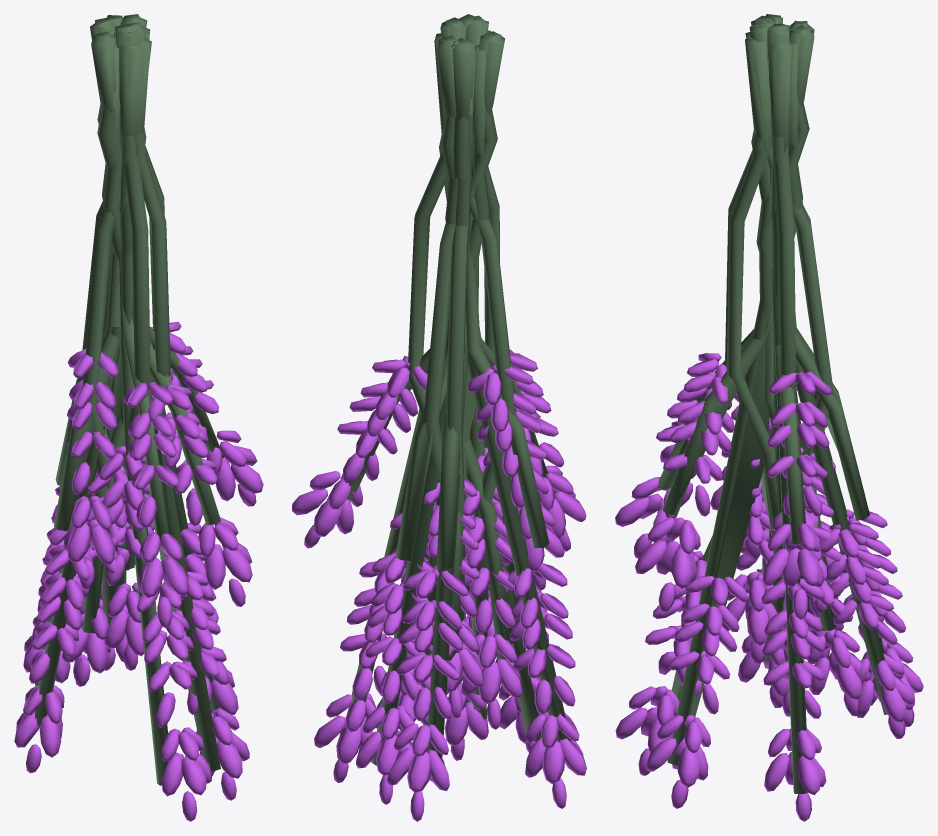
File: Kwiaty3.fbx
3 views of the same model, side by side, from view 1: azimuth 30°, elevation 25°; view 2: azimuth 150°, elevation 25°; view 3: azimuth 270°, elevation 25° (orthographic). The views are drawn at different scales.
Visible parts, largest first — view 1: Kwiatki3, Łodyga1; view 2: Kwiatki3, Łodyga1; view 3: Kwiatki3, Łodyga1.
Boxes of the visible parts, bbox=[...] form: Kwiatki3: bbox=[14, 321, 263, 821]; Łodyga1: bbox=[34, 14, 224, 785]; Kwiatki3: bbox=[292, 349, 586, 821]; Łodyga1: bbox=[343, 14, 571, 777]; Kwiatki3: bbox=[615, 353, 923, 821]; Łodyga1: bbox=[658, 14, 887, 793].
Bounding box in the file's own units: 43.98 × 122 × 44.85.
